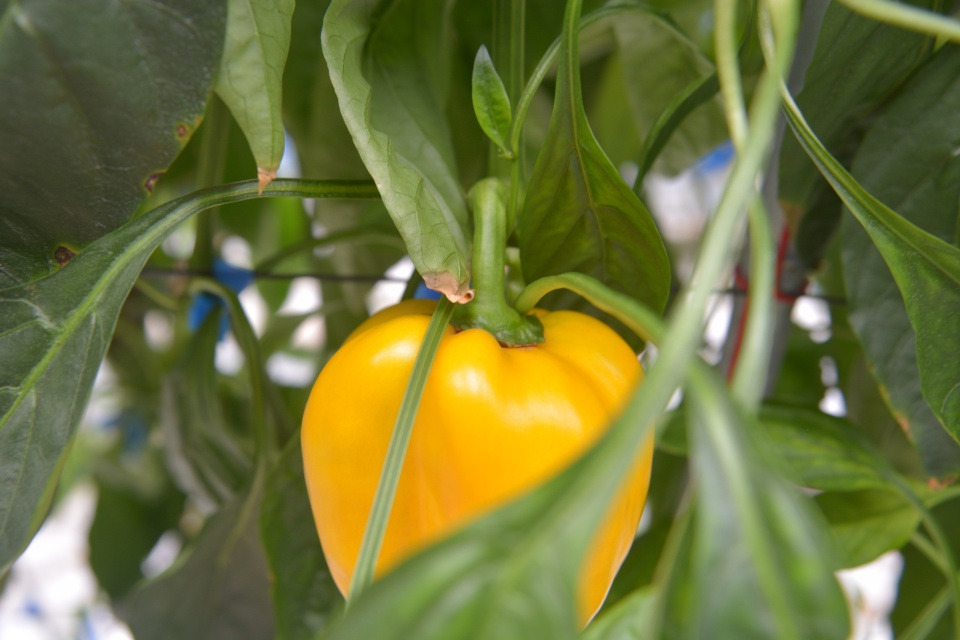fruit: (298, 293, 660, 634)
pedicle: (447, 303, 548, 344)
